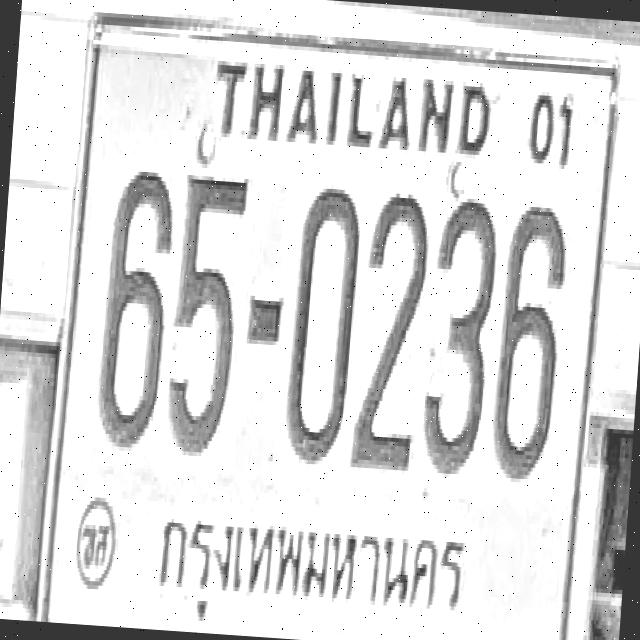0: (283, 180, 362, 464)
2: (350, 189, 430, 473)
3: (419, 194, 498, 478)
5: (164, 168, 250, 456)
6: (95, 163, 176, 447), (489, 200, 568, 480)
Bangkok: (147, 488, 480, 640)
